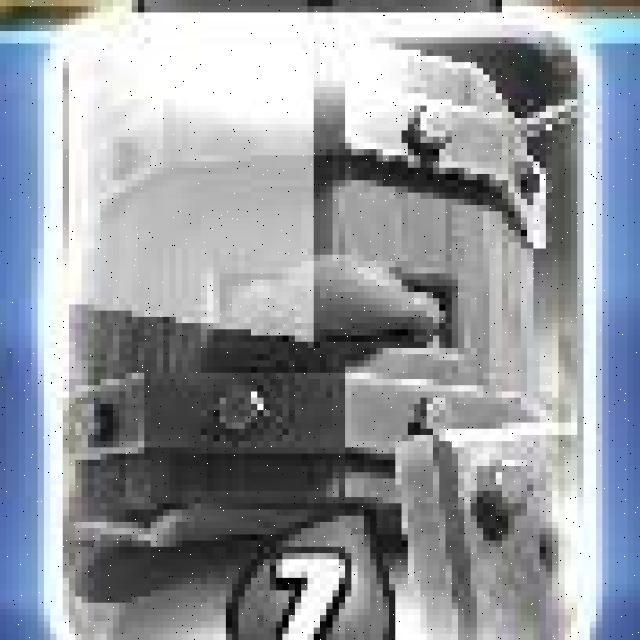Evolved_Recruits: (53, 21, 593, 640)
